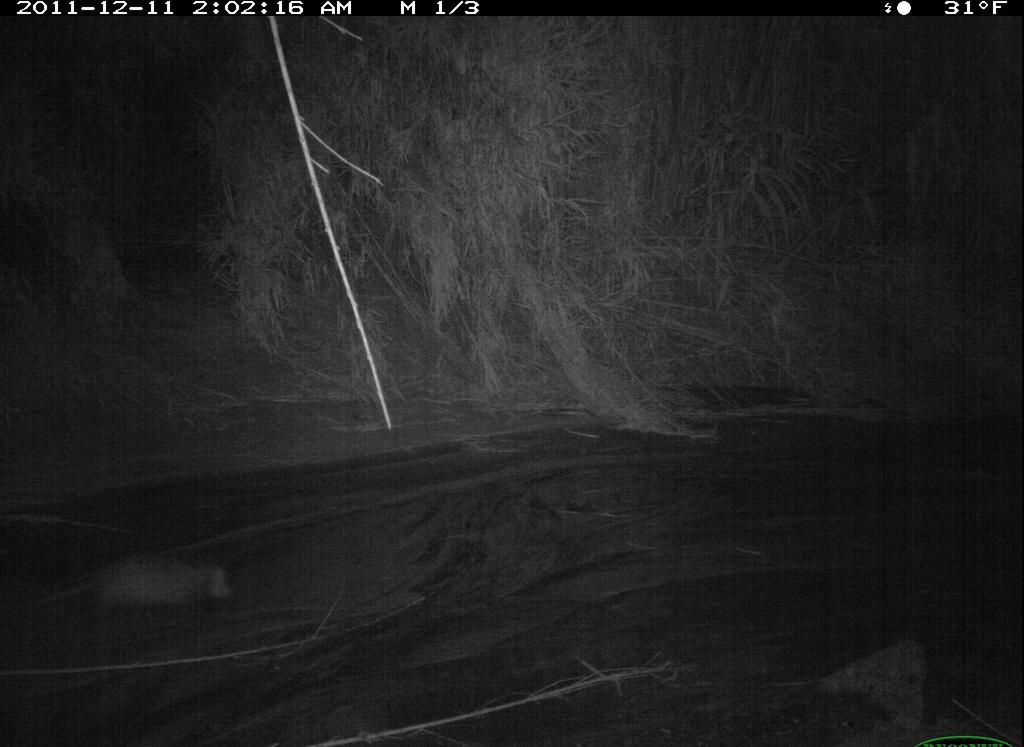opossum: (17, 543, 251, 632)
